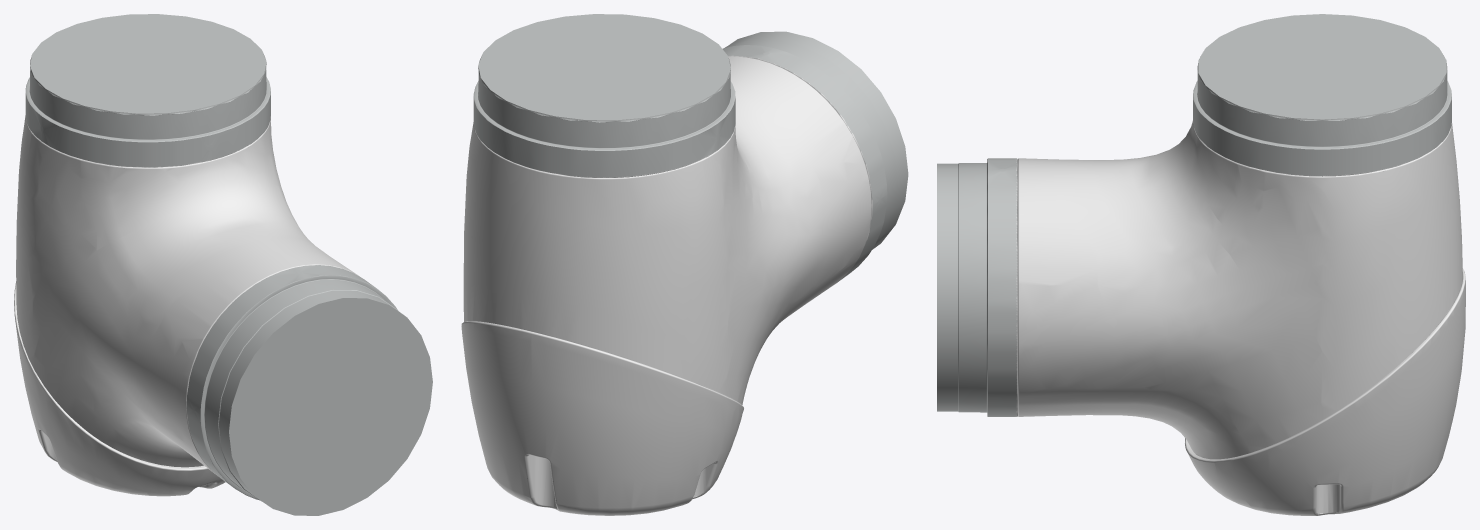
File: Link5_body.glb
The picture shows the model from 3 angles, left to right: view 1: azimuth 30°, elevation 25°; view 2: azimuth 150°, elevation 25°; view 3: azimuth 270°, elevation 25°; orthographic projection. The views are drawn at different scales.
Parts seen in each view (by area): view 1: Link5_body.STL; view 2: Link5_body.STL; view 3: Link5_body.STL.
Part boxes in pixels (<box>): Link5_body.STL: <box>14,14,432,515</box>; Link5_body.STL: <box>461,14,908,515</box>; Link5_body.STL: <box>937,14,1465,515</box>.
Size of the model in its own units: 0.0925 by 0.15 by 0.1736.
Materials: 1 (1 with a texture image).
